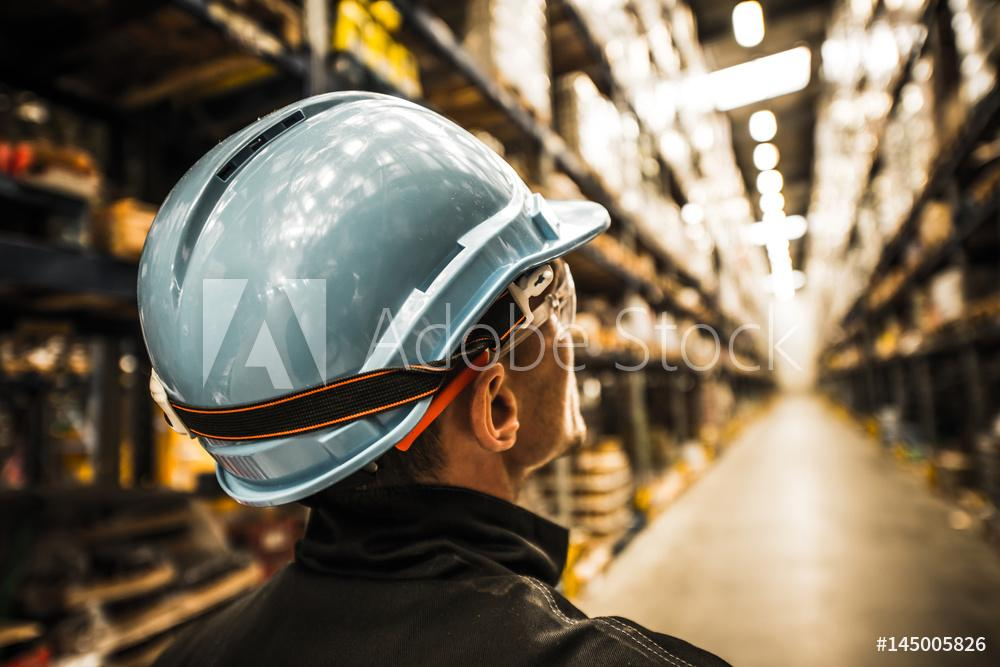helmet: (140, 90, 612, 509)
